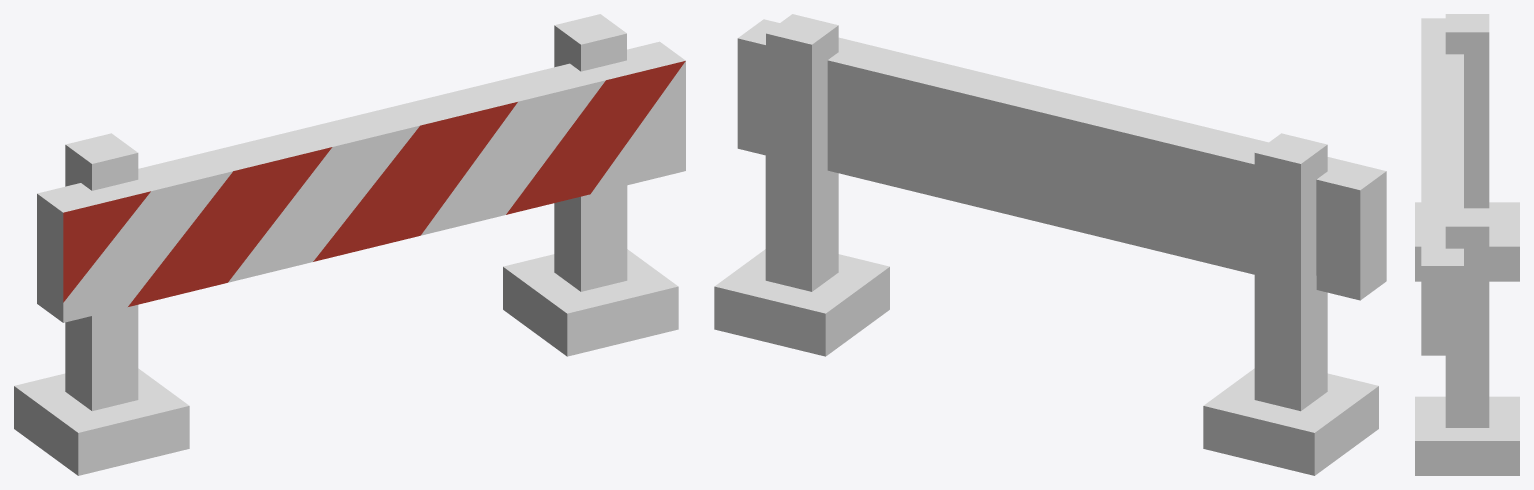
Rendered from barrier_01.FBX.
3 renders of one model, left to right at view 1: azimuth 30°, elevation 25°; view 2: azimuth 150°, elevation 25°; view 3: azimuth 270°, elevation 25°, orthographic. The views are drawn at different scales.
Visible parts, largest first — view 1: barrier_01; view 2: barrier_01; view 3: barrier_01.
Boxes of the visible parts, <box> form: barrier_01: <box>14,14,685,475</box>; barrier_01: <box>714,14,1386,475</box>; barrier_01: <box>1415,14,1519,475</box>.
Size of the model in its own units: 346 by 61.91 by 154.
Materials: 1 (1 with a texture image).
